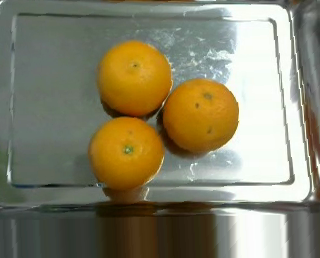Orange: (87, 115, 165, 192), (96, 40, 172, 116), (162, 77, 239, 152)
